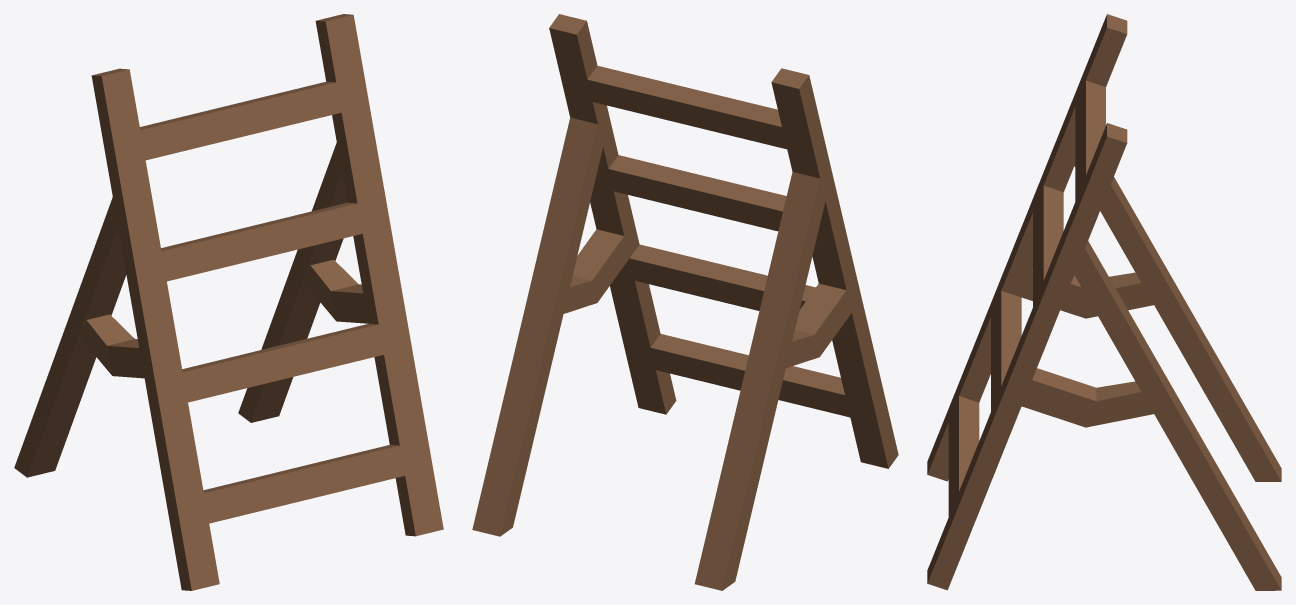
File: Ladder_1_Light_Brown.fbx
3 renders of one model, left to right at view 1: azimuth 30°, elevation 25°; view 2: azimuth 150°, elevation 25°; view 3: azimuth 270°, elevation 25°, orthographic.
Visible parts, largest first — view 1: Ladder_1_Light_Brown; view 2: Ladder_1_Light_Brown; view 3: Ladder_1_Light_Brown.
Boxes of the visible parts, x1,y1,x2,y2 form: Ladder_1_Light_Brown: (14,14,443,590); Ladder_1_Light_Brown: (472,14,898,590); Ladder_1_Light_Brown: (927,14,1281,590).
Size of the model in its own units: 135 by 233 by 165.
